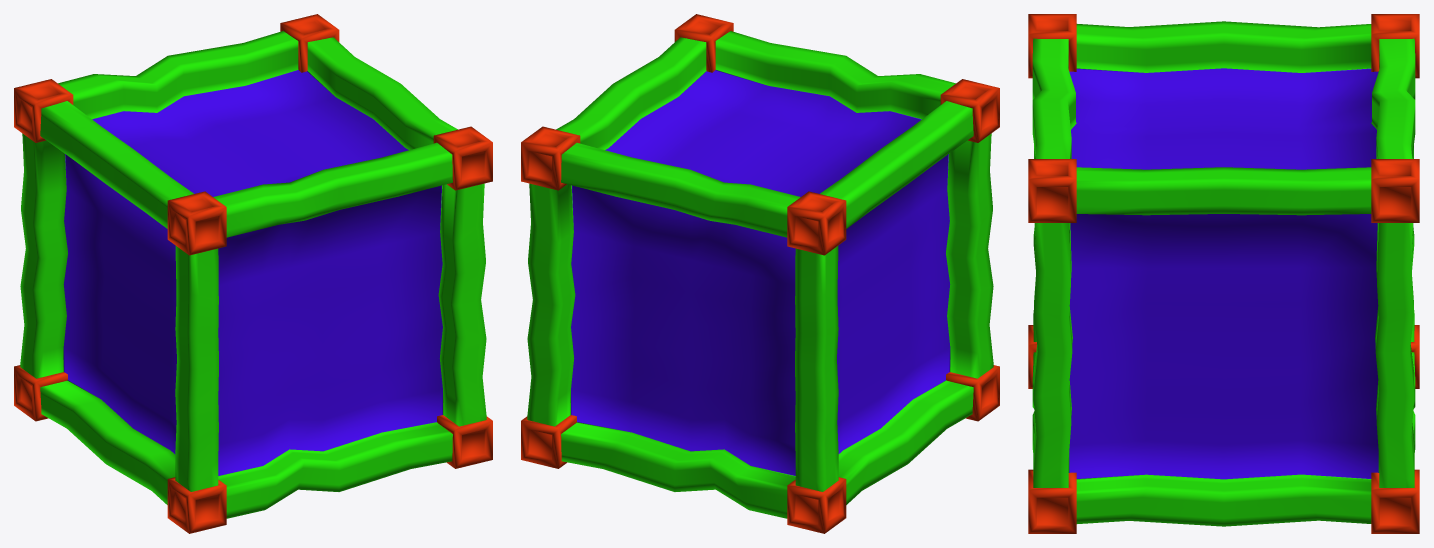
File: Assetsgame_Crate_Low.fbx
3 views of the same model, side by side, from view 1: azimuth 30°, elevation 25°; view 2: azimuth 150°, elevation 25°; view 3: azimuth 270°, elevation 25° (orthographic). The views are drawn at different scales.
Parts seen in each view (by area): view 1: Crate_Low, Cube.014; view 2: Crate_Low, Cube.014; view 3: Crate_Low, Cube.014.
Part boxes in pixels (<box>): Crate_Low: <box>20,31,486,518</box>; Cube.014: <box>14,14,492,533</box>; Crate_Low: <box>527,31,993,518</box>; Cube.014: <box>521,14,999,533</box>; Crate_Low: <box>1032,21,1415,526</box>; Cube.014: <box>1028,14,1419,533</box>.
Size of the model in its own units: 260 by 260 by 260.
